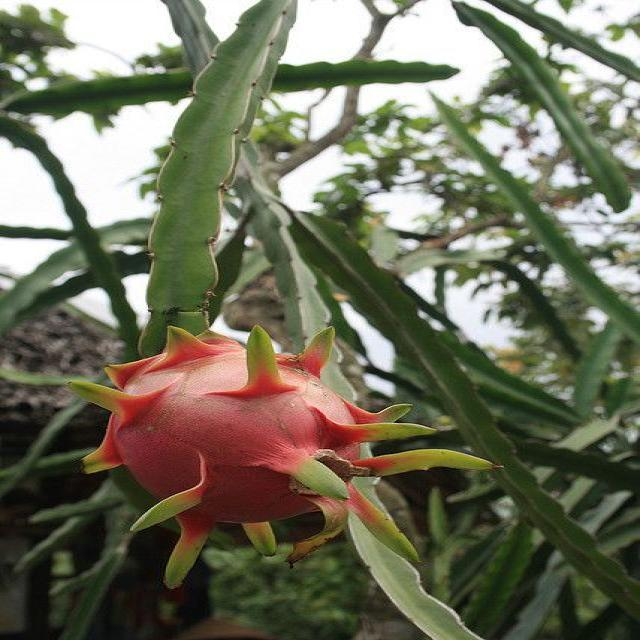Thanh Long: (74, 324, 448, 578)
